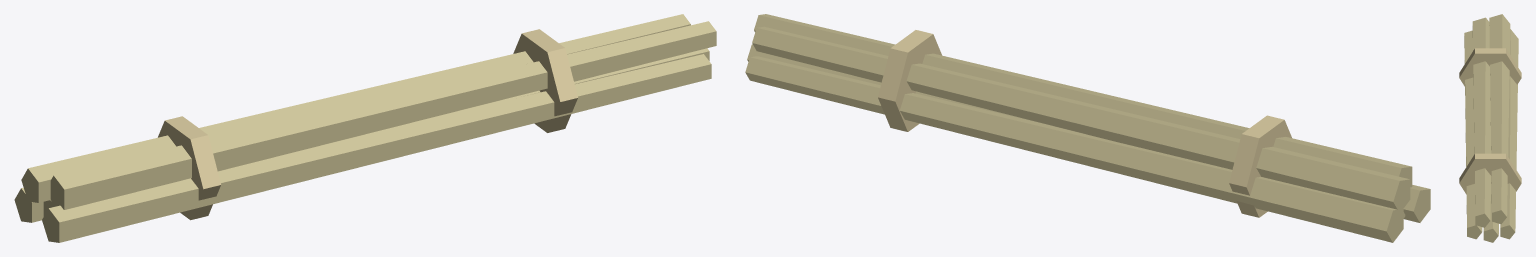
File: prop-rush-bundle-mt1.fbx
The picture shows the model from 3 angles, left to right: view 1: azimuth 30°, elevation 25°; view 2: azimuth 150°, elevation 25°; view 3: azimuth 270°, elevation 25°; orthographic projection. The views are drawn at different scales.
Parts seen in each view (by area): view 1: prop-rush-bundle-mt1; view 2: prop-rush-bundle-mt1; view 3: prop-rush-bundle-mt1.
Part boxes in pixels (x1,y1,x2,y2): prop-rush-bundle-mt1: (14,14,716,242); prop-rush-bundle-mt1: (745,14,1430,242); prop-rush-bundle-mt1: (1459,14,1521,242).
Size of the model in its own units: 112 by 12.99 by 15.
